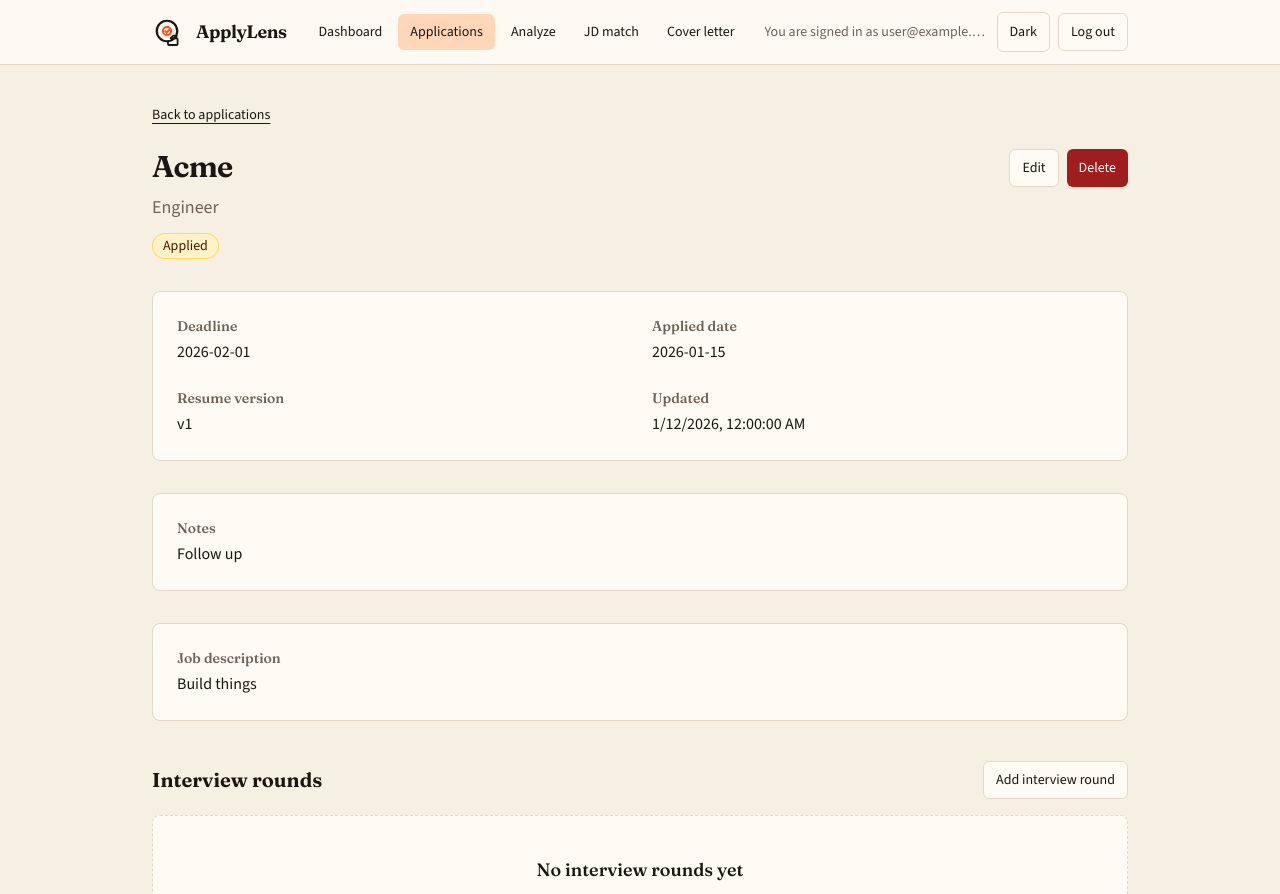
Test case: application create, edit, detail, and delete › asks for confirmation before deleting an application
Expected: the heading "Acme" is shown, [152,149,232,185]
Click the button "Delete": (1097, 168) [1067,149,1128,187]
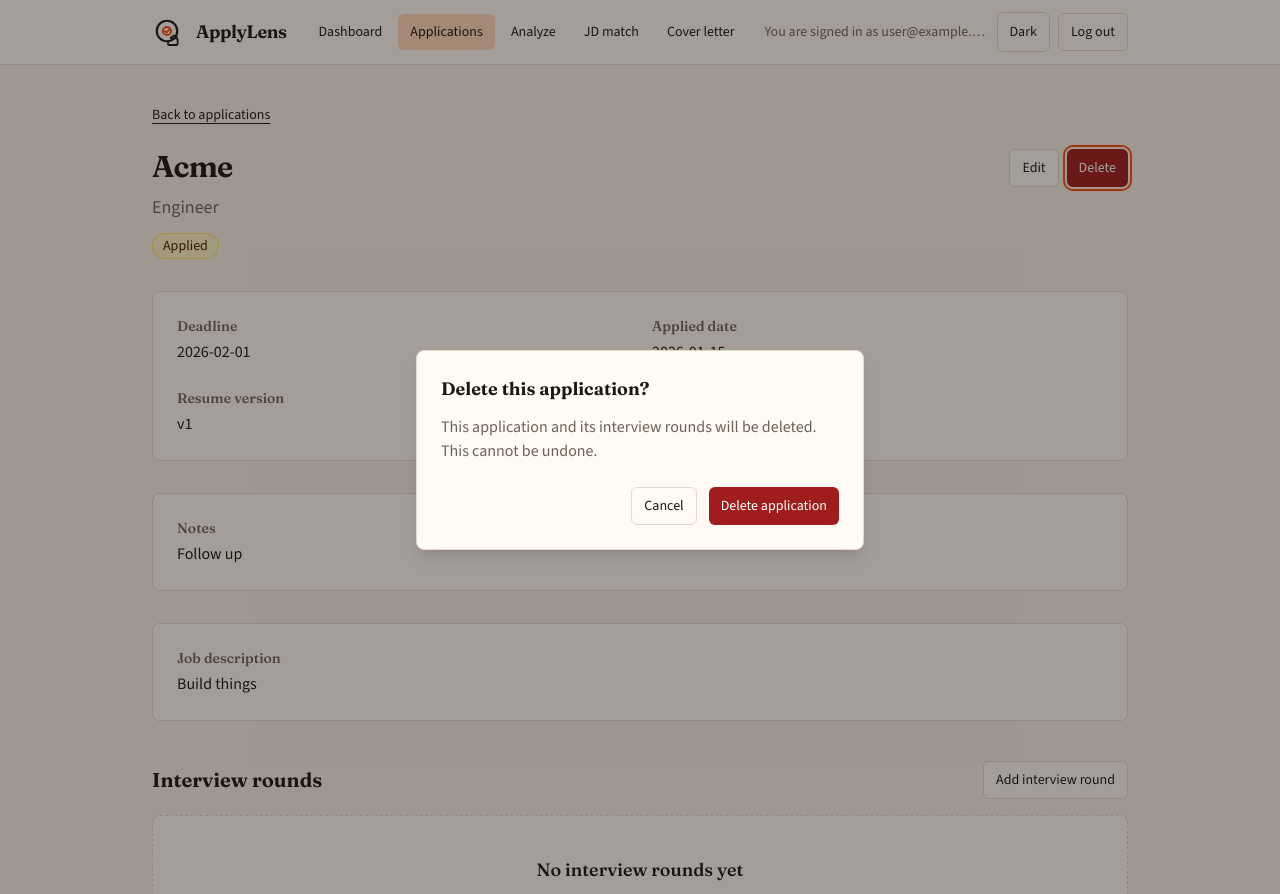
Result: the dialog shows "this application and its interview rounds will be deleted" at [441,416,816,461]
Click the button "Cancel": (664, 506) [631,487,697,525]
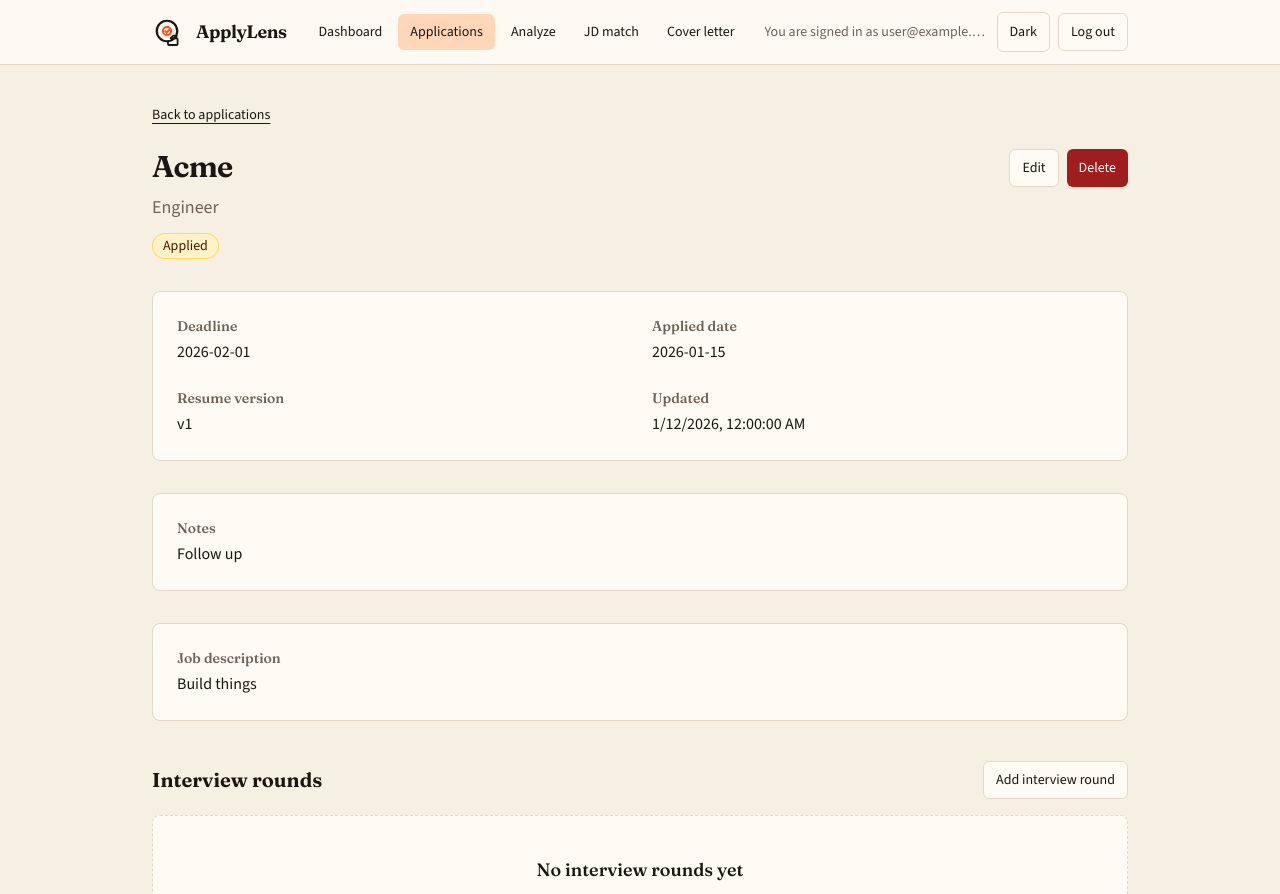
Expected: the heading "Acme" is shown, [152,149,232,185]
Result: the dialog is gone
